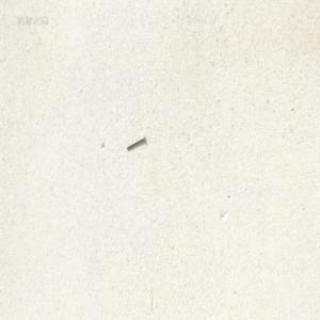Bolttrack_idkeyframe: (125, 134, 144, 150)
